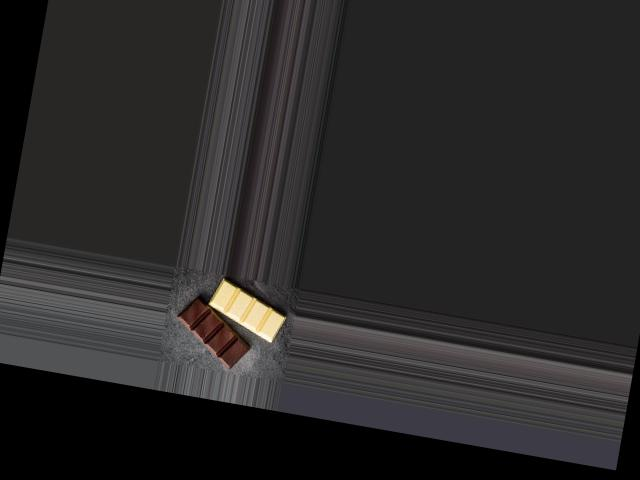chocolate: (171, 273, 295, 375)
